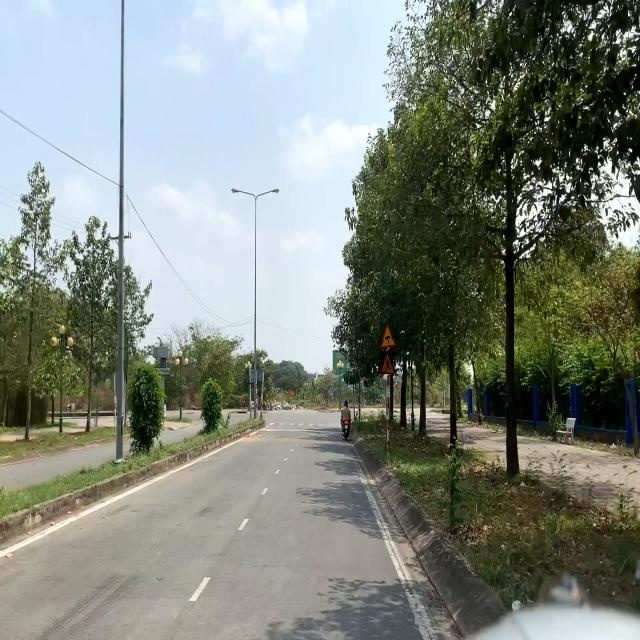bien_nguy_hiem: (379, 323, 397, 350), (379, 351, 396, 374)
